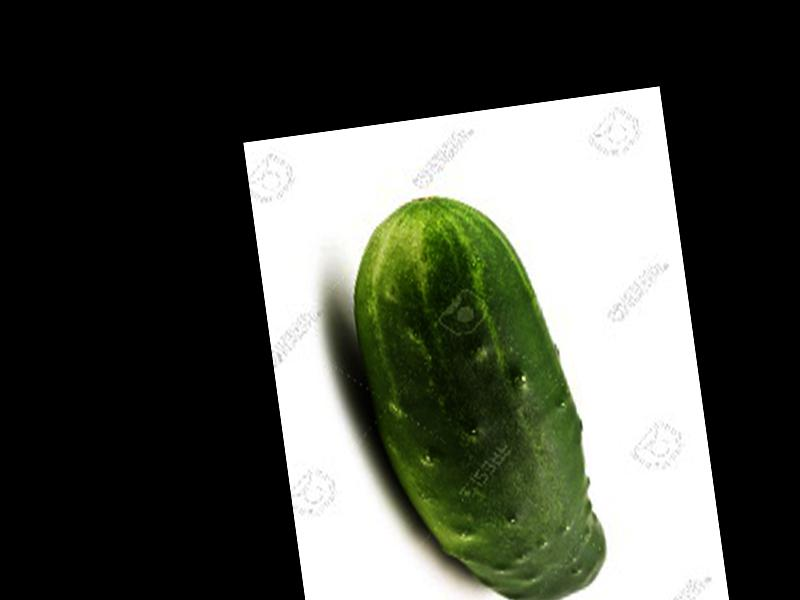Cucumber: (337, 179, 612, 600)
